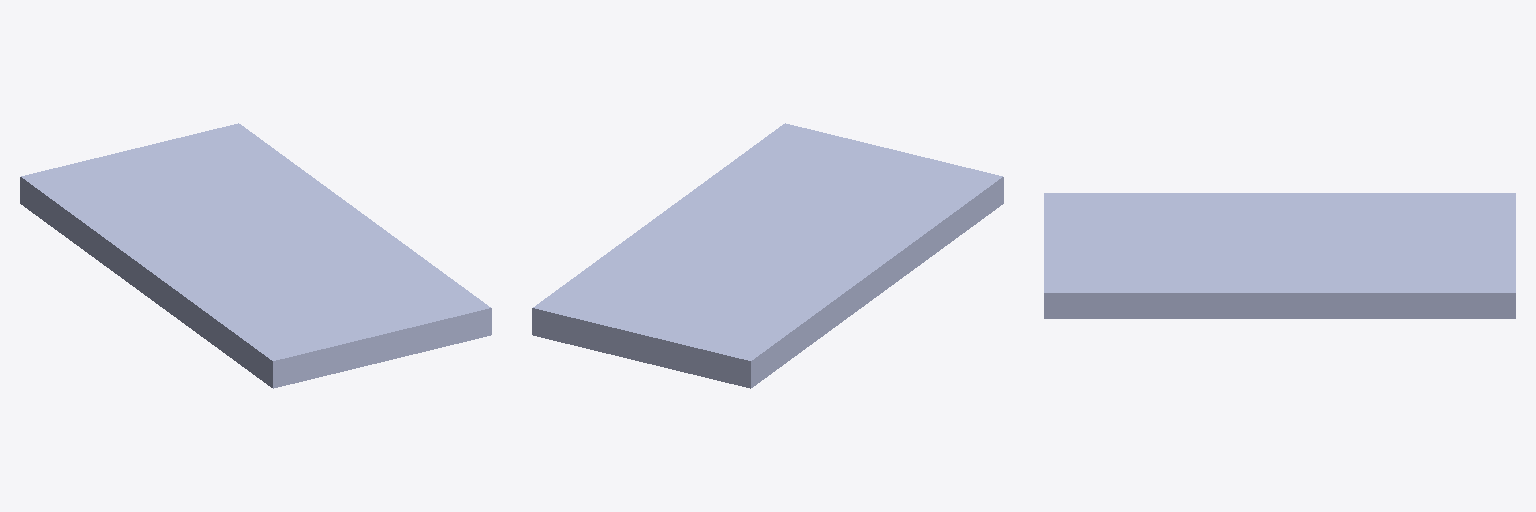
URDF robot description (box):
<robot
  name="box">
  <link
    name="box">
    <inertial>
      <origin
        xyz="3.7007E-18 1.57346909530734E-15 0.3"
        rpy="0 0 0" />
      <mass
        value="30000" />
      <inertia
        ixx="250900"
        ixy="1.18719848766583E-11"
        ixz="1.06581410364016E-13"
        iyy="63400"
        iyz="1.56521524257228E-11"
        izz="312500" />
    </inertial>
    <visual>
      <origin
        xyz="0 0 0"
        rpy="1.5707963267949 0 0" />
      <geometry>
        <mesh
          filename="package://box/meshes/box.STL" />
      </geometry>
      <material
        name="">
        <color
          rgba="0.79216 0.81961 0.93333 1" />
      </material>
    </visual>
    <collision>
      <origin
        xyz="0 0 0"
        rpy="1.5707963267949 0 0" />
      <geometry>
        <mesh
          filename="package://box/meshes/box.STL" />
      </geometry>
    </collision>
  </link>
</robot>

--- What the picture shows (computed from the rendered views, not written in the file) ---
Views: 3 orthographic renders of the robot side by side, from view 1: azimuth 30°, elevation 25°; view 2: azimuth 150°, elevation 25°; view 3: azimuth 270°, elevation 25°.
Model box with 1 links and 0 joints (none), rooted at box, posed all joints at 0.
Links seen in each view (by area): view 1: box; view 2: box; view 3: box.
Link boxes in pixels (x1,y1,x2,y2): box: [20, 123, 491, 388]; box: [532, 123, 1003, 388]; box: [1044, 193, 1515, 318].
Bounding box of the posed robot: 5 × 10 × 0.6 m (x, y, z).
1 mesh visuals loaded from 1 distinct referenced files (1 binary STL).